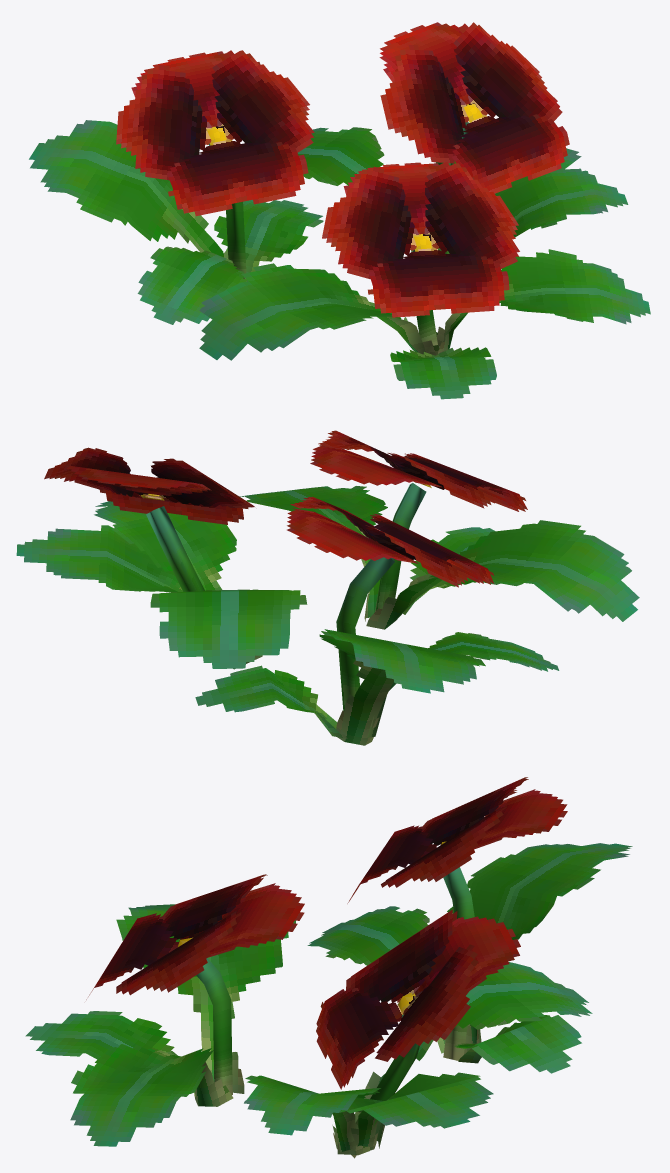
File: red-pansies.glb
3 renders of one model, top to bottom at view 1: azimuth 30°, elevation 25°; view 2: azimuth 150°, elevation 25°; view 3: azimuth 270°, elevation 25°, orthographic. The views are drawn at different scales.
Bounding box in the file's own units: 10.83 × 4.92 × 10.68.
2 materials, 2 textured.
